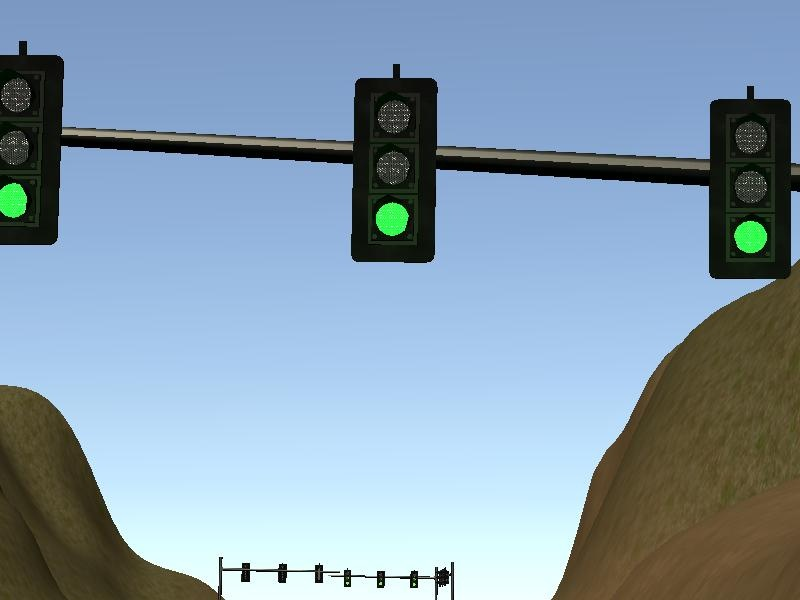GREEN: (351, 77, 436, 264), (707, 96, 792, 283), (1, 55, 65, 246)
